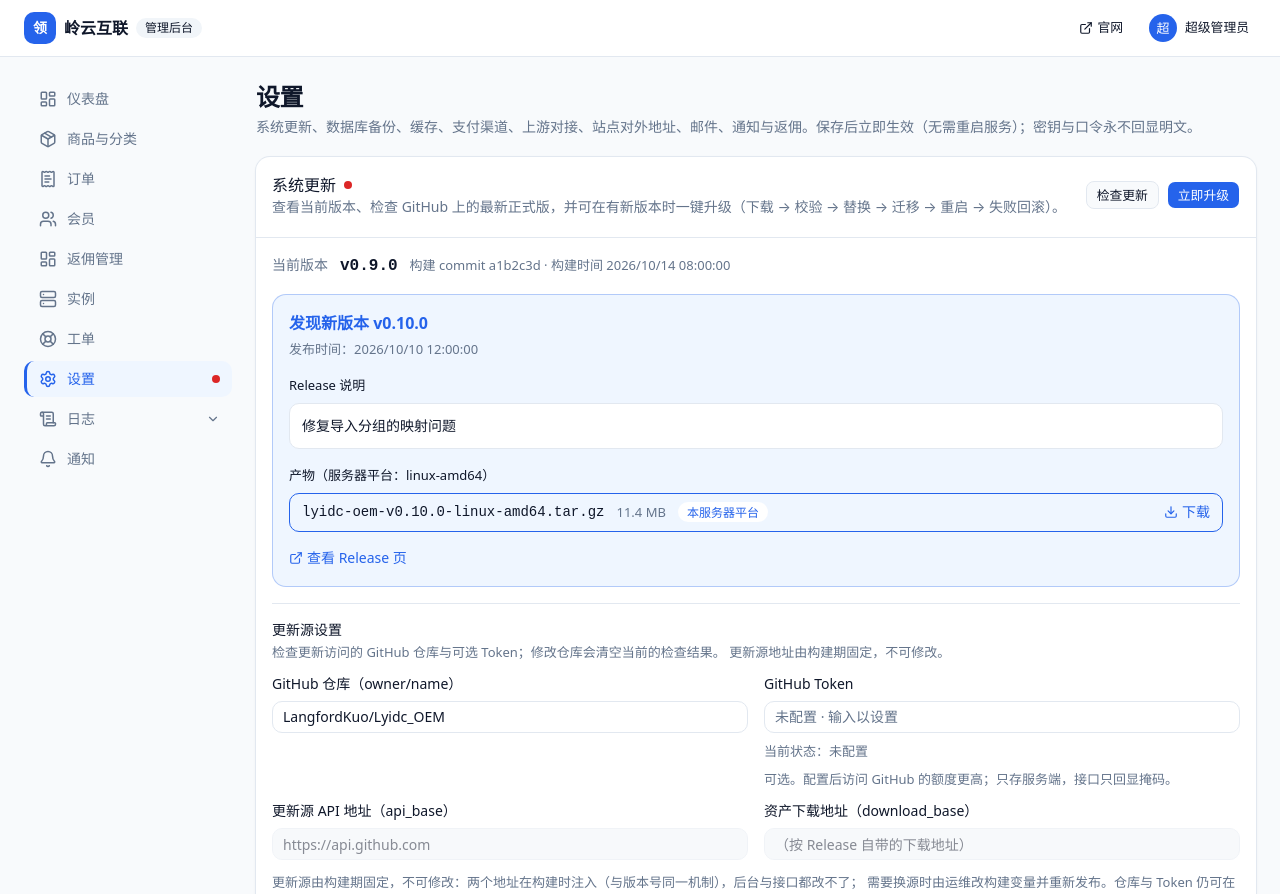
管理后台 · 一键升级（R13-B，契约 20） › 有新版本时出现「立即升级」，二次确认弹窗写清目标版本、替换内容与中断提示
Expected: the heading "设置" is shown, [256,80,303,113]
Expected: the text "发现新版本 v0.10.0" is shown, [289,312,428,334]
Click the button with test id "upgrade-apply-button": (1203, 195) [1167,181,1240,209]
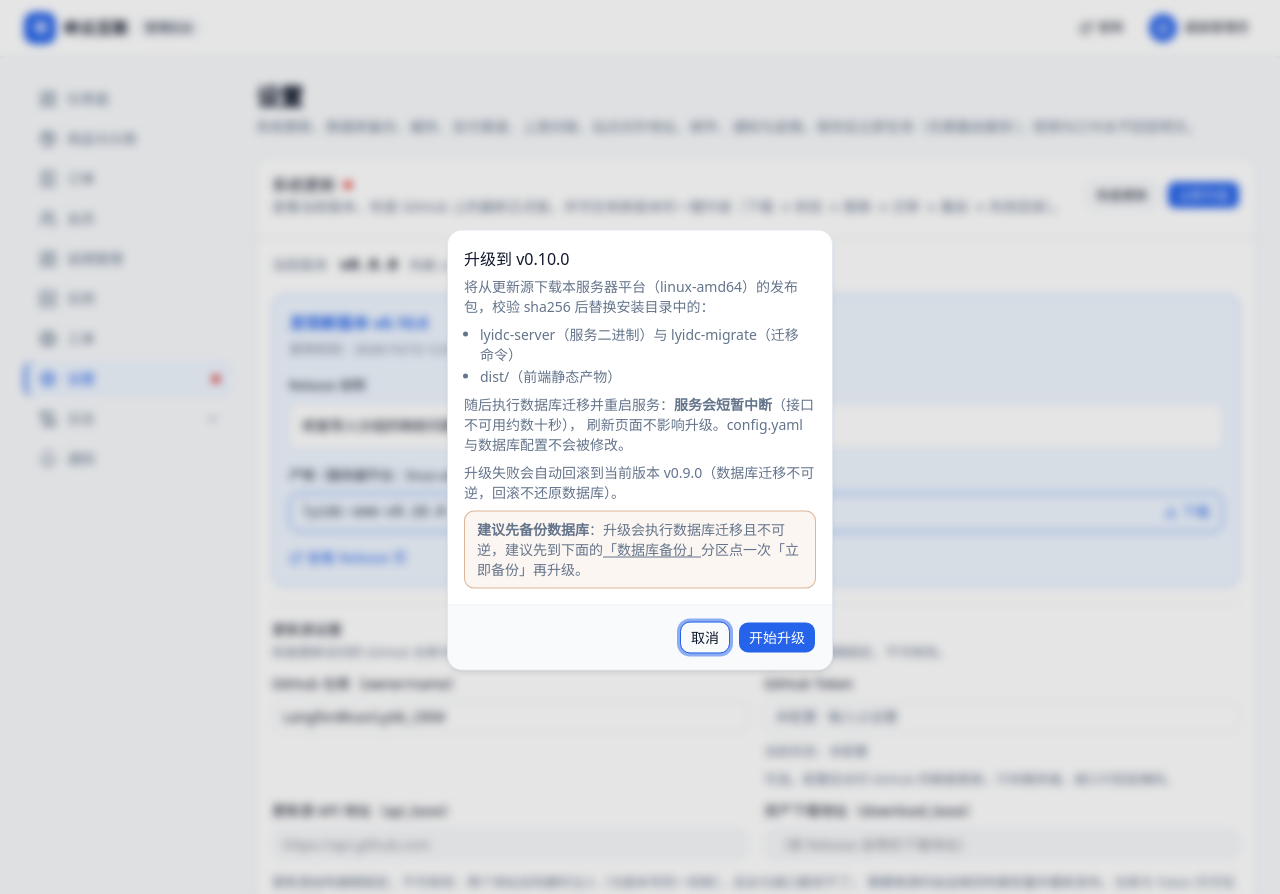
Expected: the heading "升级到 v0.10.0" is shown, [464,246,570,270]
Expected: the list item "lyidc-server（服务二进制）与 lyidc-migrate（迁移命令）" is shown, [480,324,816,364]
Expected: the list item "dist/（前端静态产物）" is shown, [480,366,621,386]
Note: 取消不应发起任何升级请求。
Click the button "取消": (705, 638) [680,622,730,654]
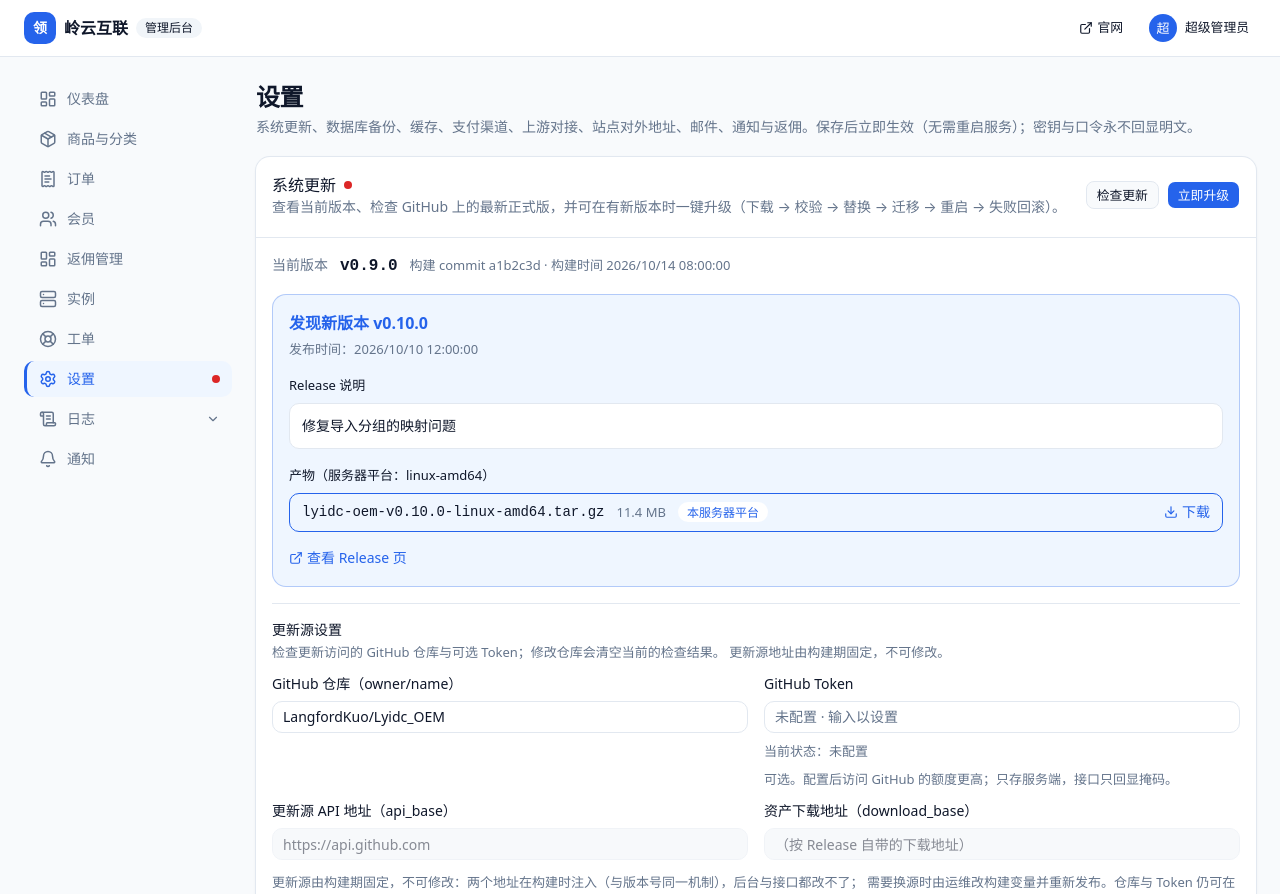
Expected: the dialog is gone
